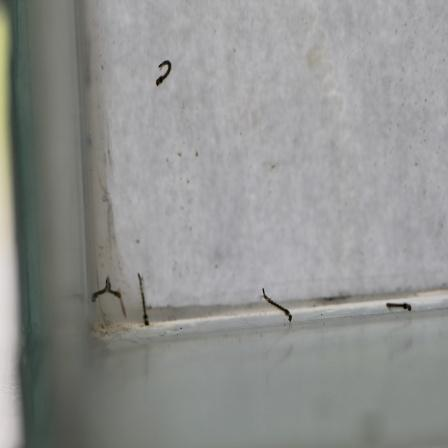Jentik-Nyamuk: (259, 284, 295, 322), (133, 269, 153, 327), (152, 57, 174, 87), (379, 296, 416, 313)
